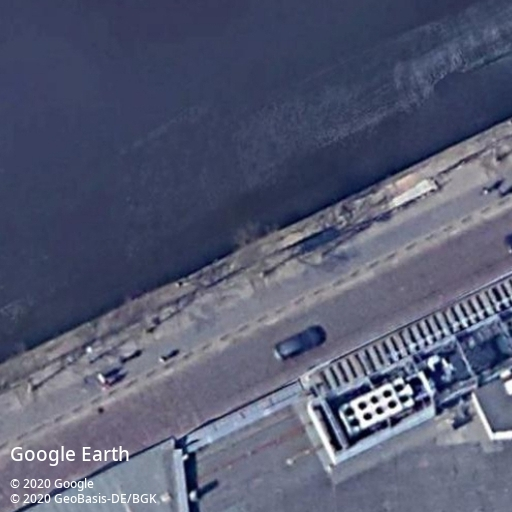Chiller: (338, 377, 414, 436)
